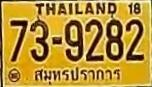2: (85, 18, 103, 60), (125, 18, 142, 60)
3: (30, 19, 48, 61)
7: (9, 19, 27, 61)
8: (105, 19, 122, 60)
9: (64, 19, 82, 60)
SPK: (34, 65, 121, 85)
